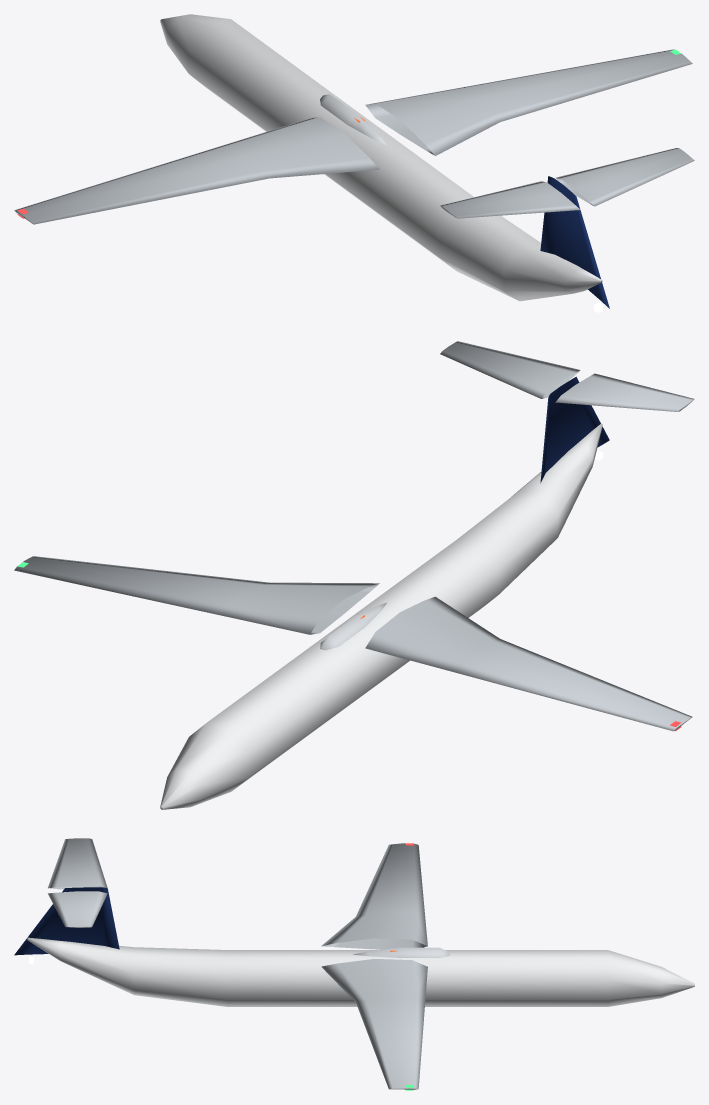
Rendered from fleet_turboprop2_lod2.glb.
3 views of the same model, one above another, from view 1: azimuth 30°, elevation 25°; view 2: azimuth 150°, elevation 25°; view 3: azimuth 270°, elevation 25° (orthographic). The views are drawn at different scales.
Visible parts, largest first — view 1: fleet_turboprop2_lod2_wing, fleet_turboprop2_lod2_white, fleet_turboprop2_lod2_blue, fleet_turboprop2_lod2_nacelle; view 2: fleet_turboprop2_lod2_wing, fleet_turboprop2_lod2_white, fleet_turboprop2_lod2_blue, fleet_turboprop2_lod2_nacelle; view 3: fleet_turboprop2_lod2_white, fleet_turboprop2_lod2_wing, fleet_turboprop2_lod2_blue, fleet_turboprop2_lod2_nacelle.
Boxes of the visible parts, left/top/right/bottom form: fleet_turboprop2_lod2_wing: left=14, top=49, right=694, bottom=224; fleet_turboprop2_lod2_white: left=160, top=14, right=602, bottom=301; fleet_turboprop2_lod2_blue: left=540, top=176, right=609, bottom=308; fleet_turboprop2_lod2_nacelle: left=320, top=94, right=386, bottom=145; fleet_turboprop2_lod2_wing: left=14, top=341, right=694, bottom=731; fleet_turboprop2_lod2_white: left=160, top=423, right=602, bottom=809; fleet_turboprop2_lod2_blue: left=540, top=376, right=609, bottom=483; fleet_turboprop2_lod2_nacelle: left=320, top=602, right=386, bottom=650; fleet_turboprop2_lod2_white: left=27, top=937, right=694, bottom=1006; fleet_turboprop2_lod2_wing: left=48, top=838, right=427, bottom=1089; fleet_turboprop2_lod2_blue: left=14, top=887, right=119, bottom=955; fleet_turboprop2_lod2_nacelle: left=353, top=947, right=449, bottom=957.
Size of the model in its own units: 28.4 by 6.52 by 33.46.
